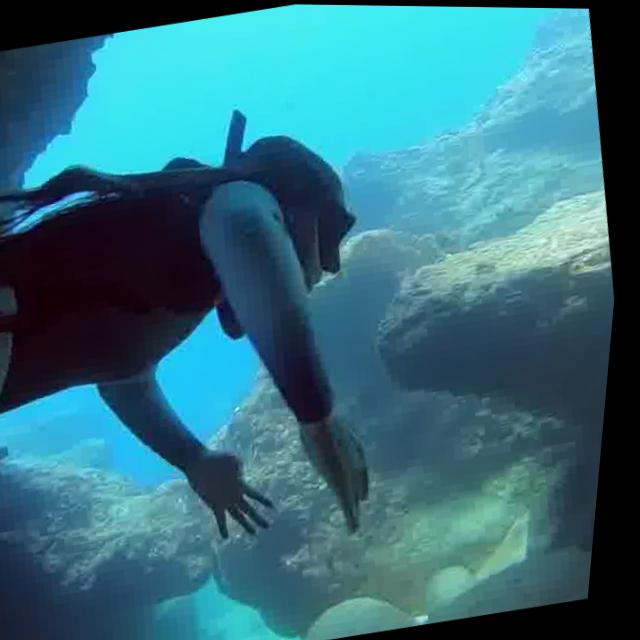human: (0, 84, 501, 604)
